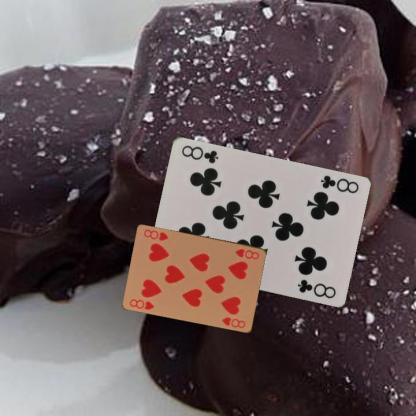8c: (317, 172, 360, 194)
8h: (127, 296, 156, 311), (233, 245, 260, 261)
